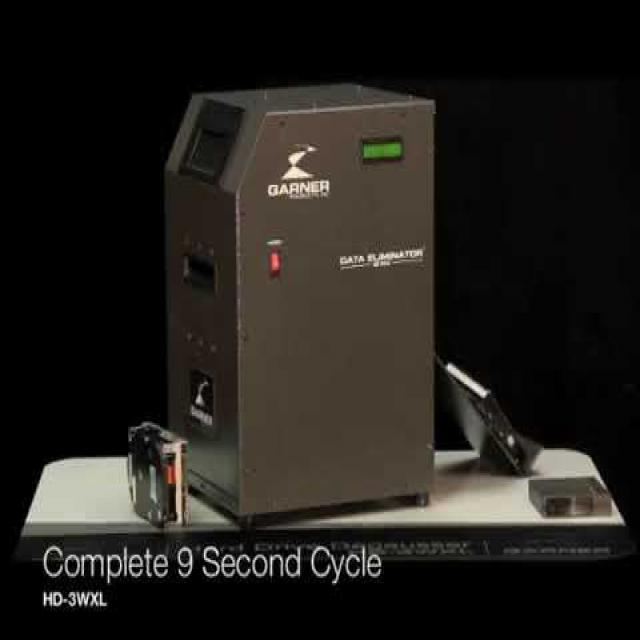palette: (163, 78, 441, 519)
